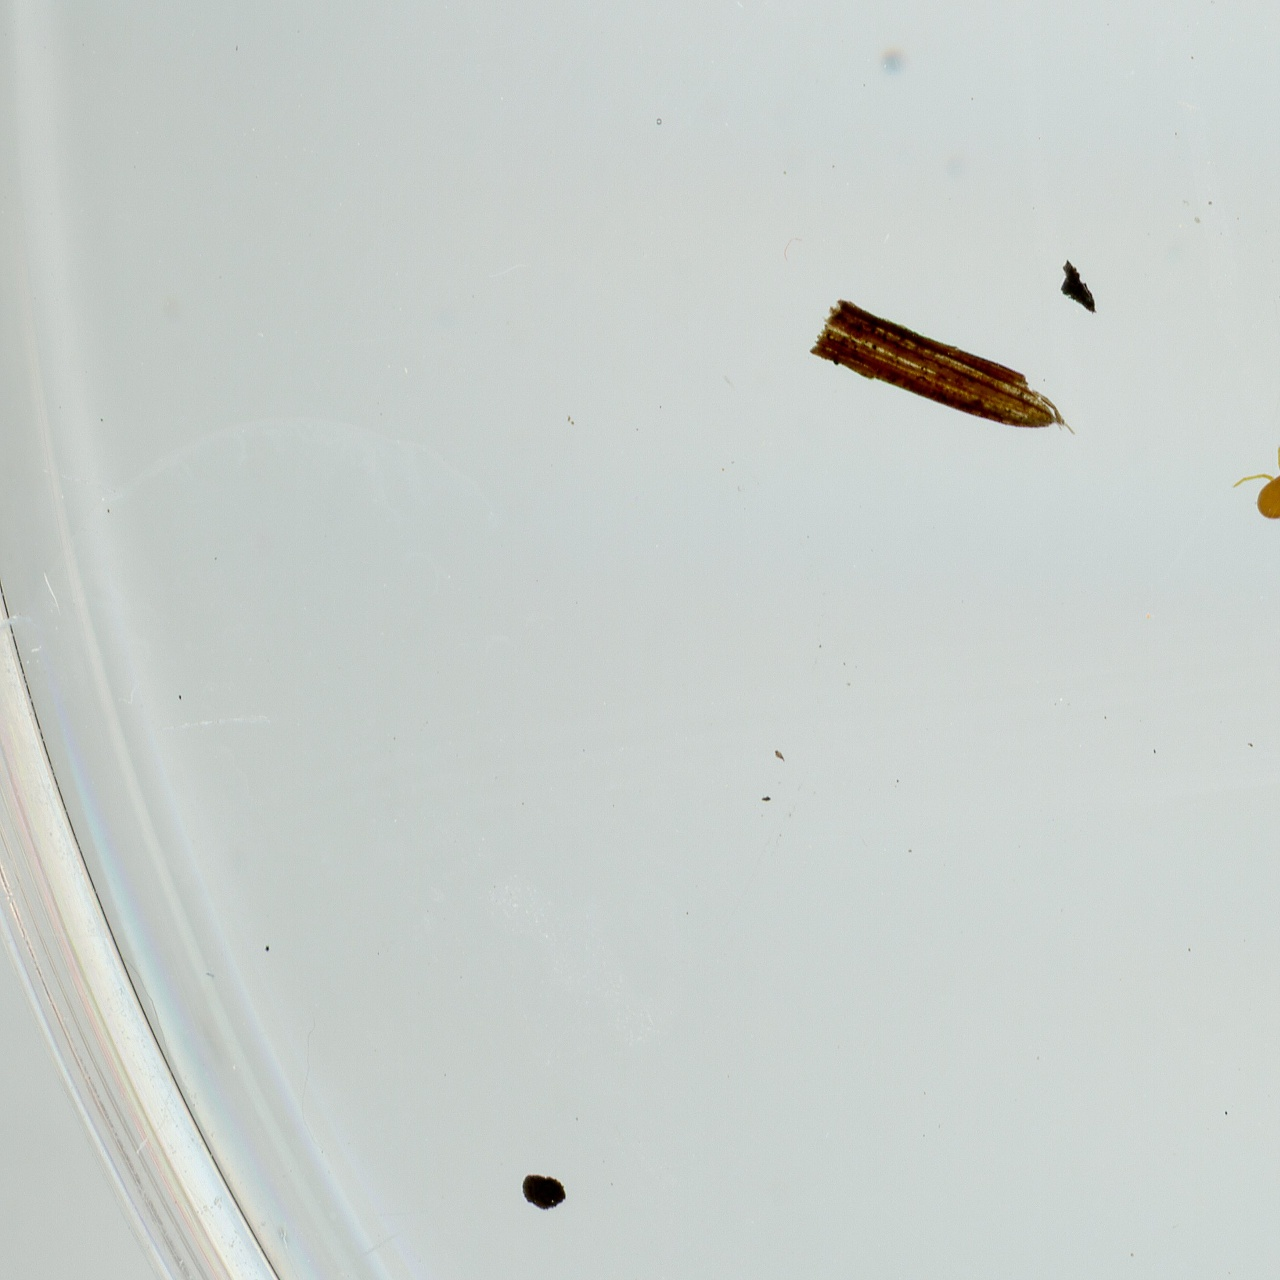arthropod: (1230, 440, 1280, 530)
